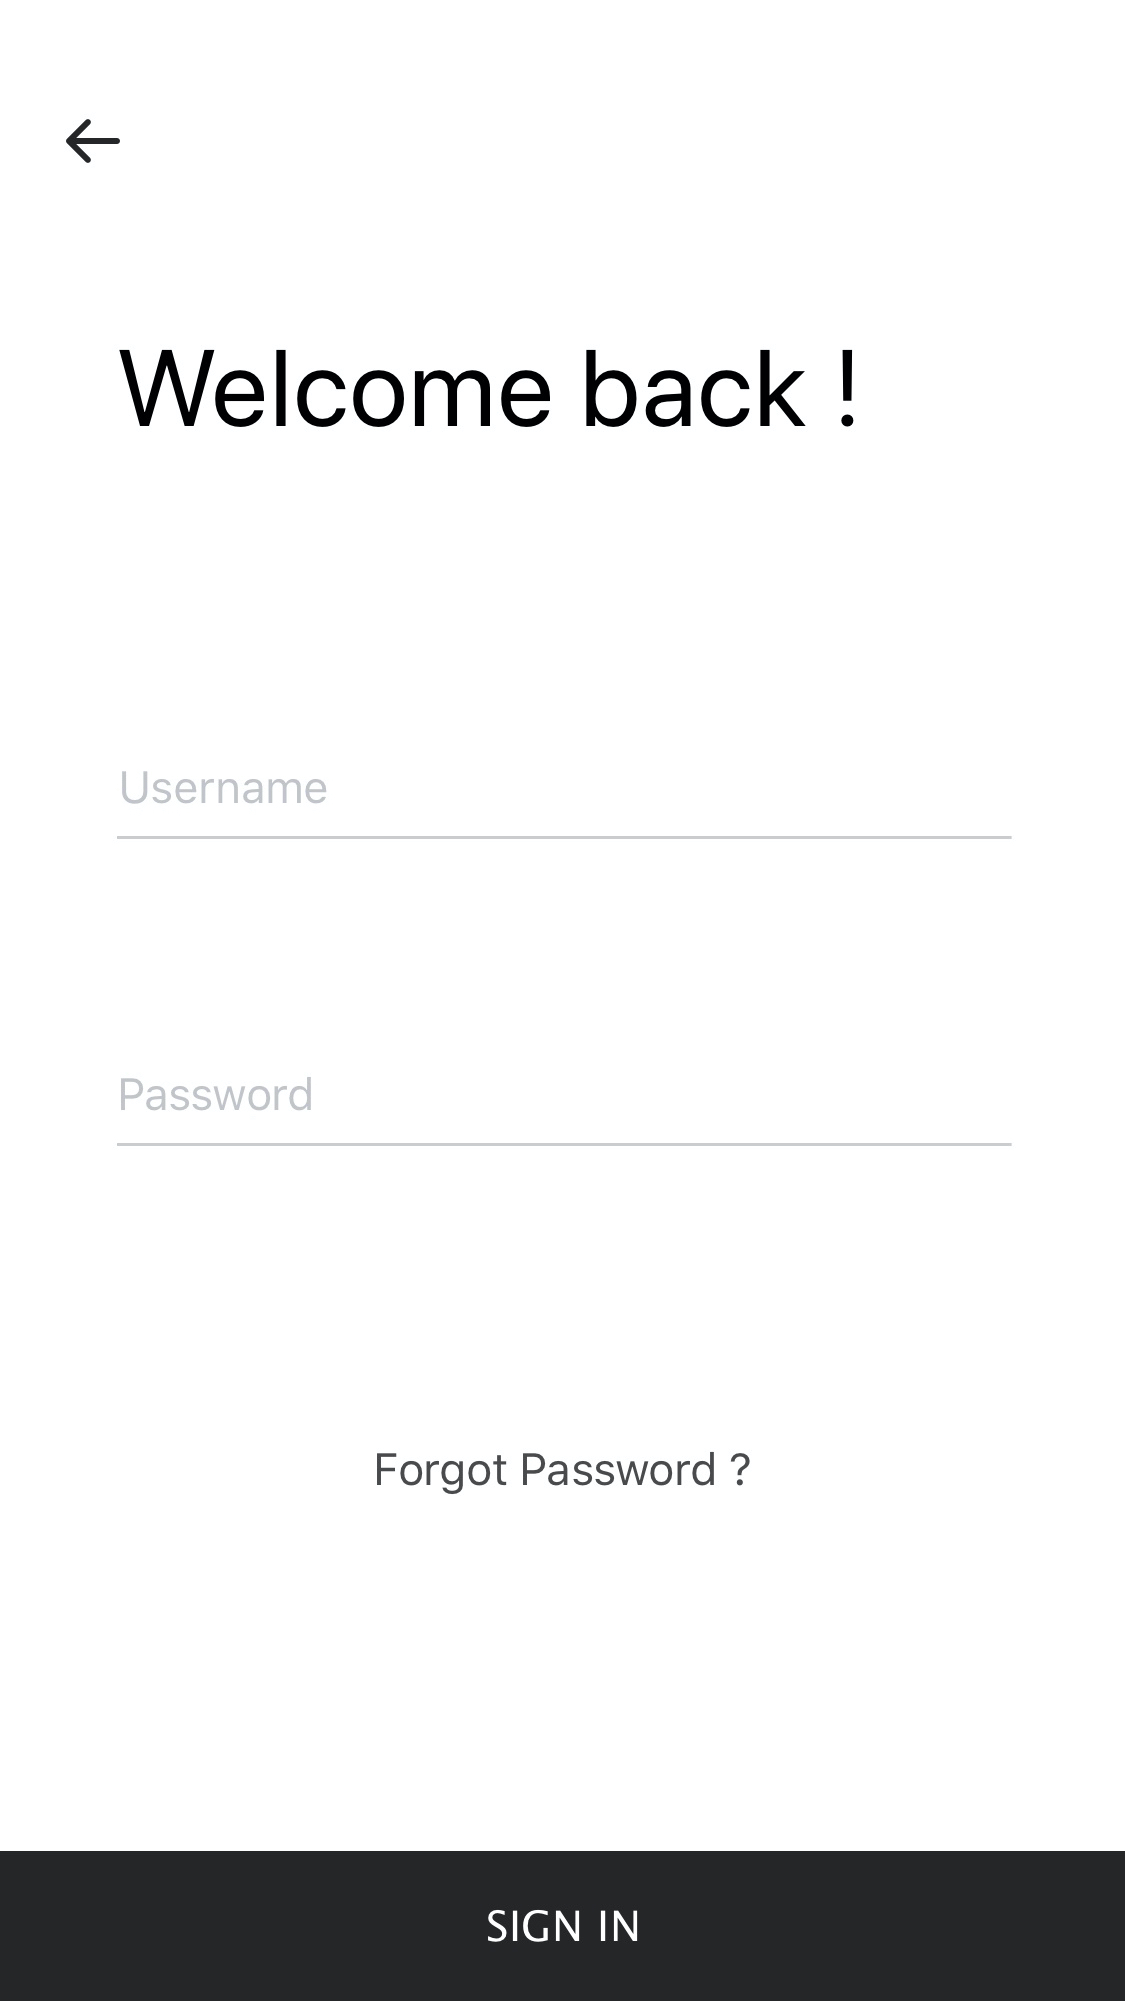EditText: (117, 1076, 1014, 1148), (117, 771, 1012, 841)
Icon: (66, 120, 121, 165)
Text: (120, 350, 854, 427), (376, 1451, 751, 1495), (124, 771, 328, 805), (122, 1077, 313, 1112)
TextButton: (1, 1851, 1125, 2001)
